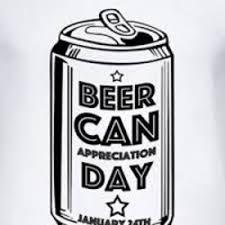beer: (49, 9, 176, 225)
